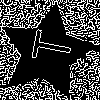T: (22, 27, 73, 66)
